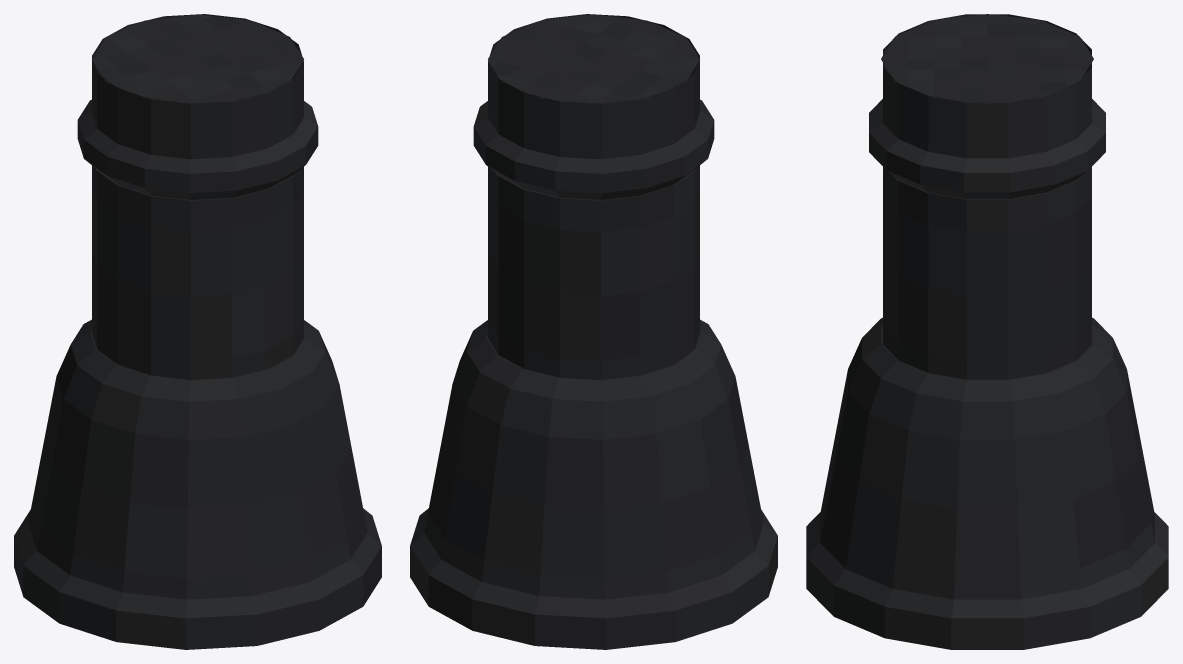
Rendered from decopole_lahollywood_inv.obj.
3 renders of one model, left to right at view 1: azimuth 30°, elevation 25°; view 2: azimuth 150°, elevation 25°; view 3: azimuth 270°, elevation 25°, orthographic.
Parts seen in each view (by area): view 1: decopole_lahollywood_inv; view 2: decopole_lahollywood_inv; view 3: decopole_lahollywood_inv.
Boxes of the visible parts, bbox=[...] form: decopole_lahollywood_inv: bbox=[14, 14, 381, 649]; decopole_lahollywood_inv: bbox=[410, 14, 777, 649]; decopole_lahollywood_inv: bbox=[806, 14, 1168, 649].
Size of the model in its own units: 0.6375 by 1 by 0.6375.
